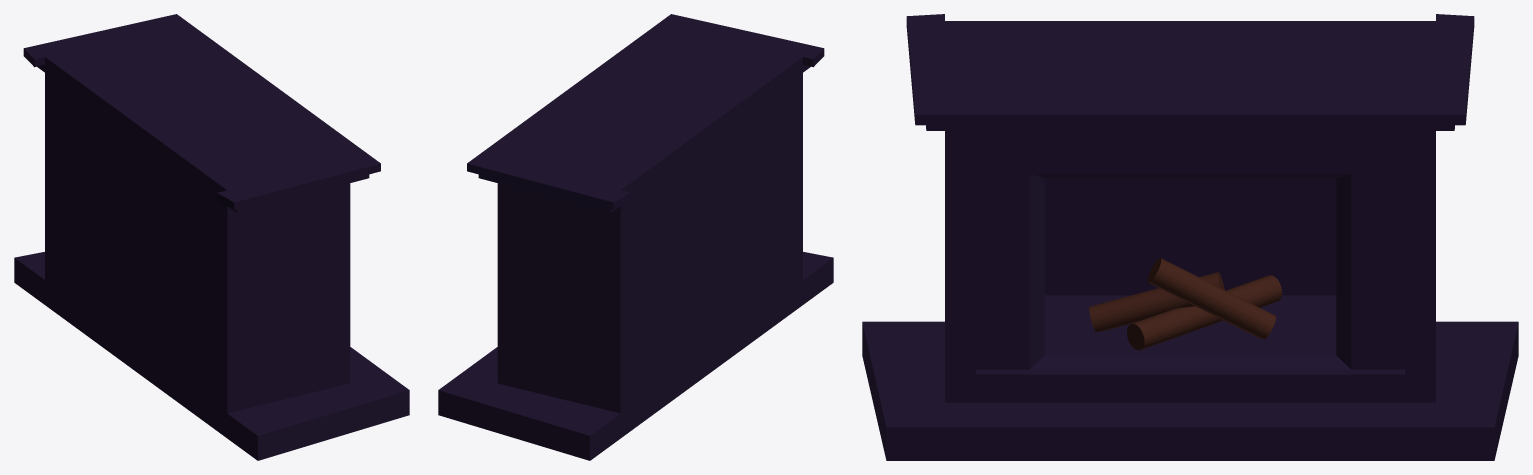
Rendered from chimenea.fbx.
The picture shows the model from 3 angles, left to right: view 1: azimuth 30°, elevation 25°; view 2: azimuth 150°, elevation 25°; view 3: azimuth 270°, elevation 25°; orthographic projection. The views are drawn at different scales.
Visible parts, largest first — view 1: Cube; view 2: Cube; view 3: Cube, Cylinder.002, Cylinder, Cylinder.001.
Part boxes in pixels (left/top/right/bottom): Cube: left=14, top=14, right=409, bottom=460; Cube: left=438, top=14, right=833, bottom=460; Cube: left=862, top=14, right=1518, bottom=460; Cylinder.002: left=1147, top=258, right=1275, bottom=339; Cylinder: left=1127, top=275, right=1282, bottom=350; Cylinder.001: left=1089, top=272, right=1224, bottom=331.
Bounding box in the file's own units: 572 × 792 × 1409.
